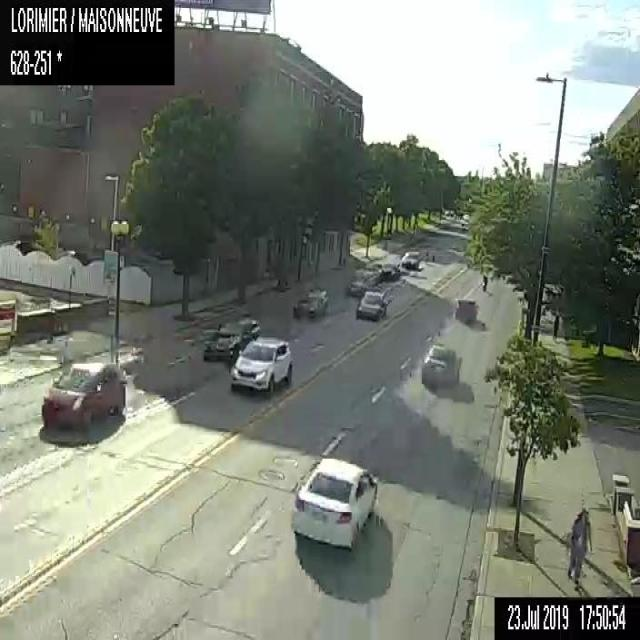pedestrian: (566, 508, 592, 588), (553, 314, 559, 342), (482, 273, 487, 292)
vehicle: (290, 456, 378, 544), (41, 359, 124, 424), (230, 336, 292, 389), (204, 317, 260, 361), (420, 344, 461, 385), (293, 285, 329, 316), (356, 286, 390, 317), (347, 268, 379, 296), (381, 252, 400, 277), (454, 299, 476, 320), (400, 249, 420, 268)
